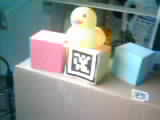duck: (63, 6, 109, 47)
